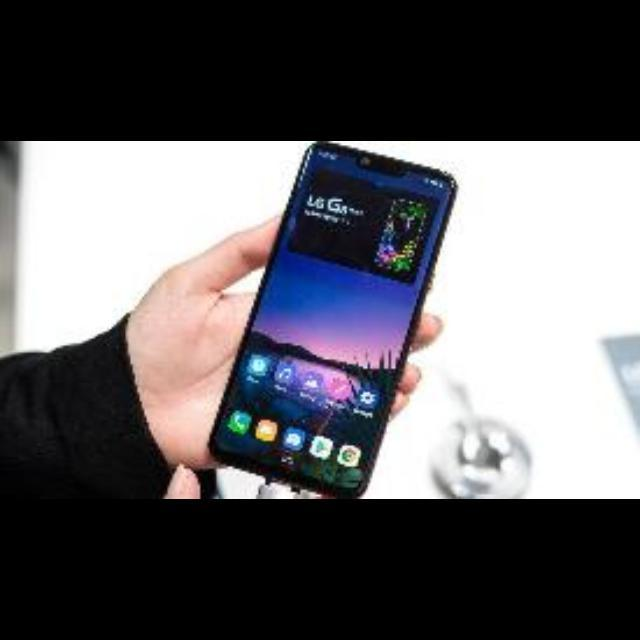Phone: (206, 141, 459, 499)
